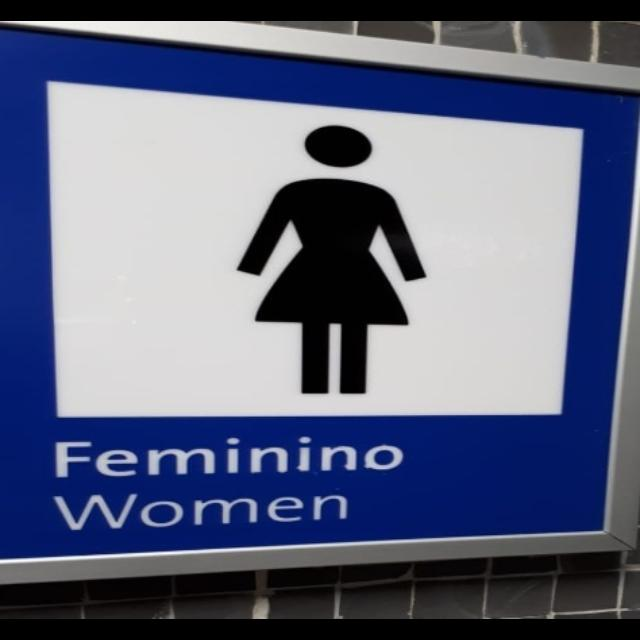womens_restroom: (0, 21, 639, 580)
